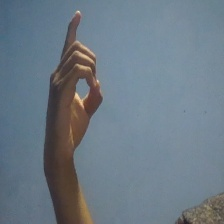D: (38, 8, 106, 156)
